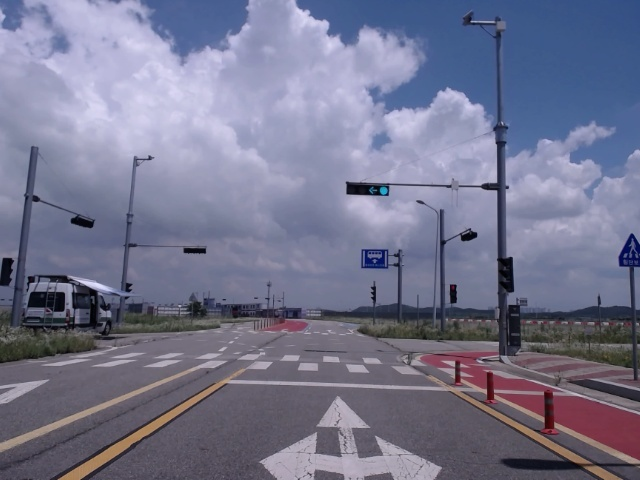all_green_4: (339, 182, 390, 198)
